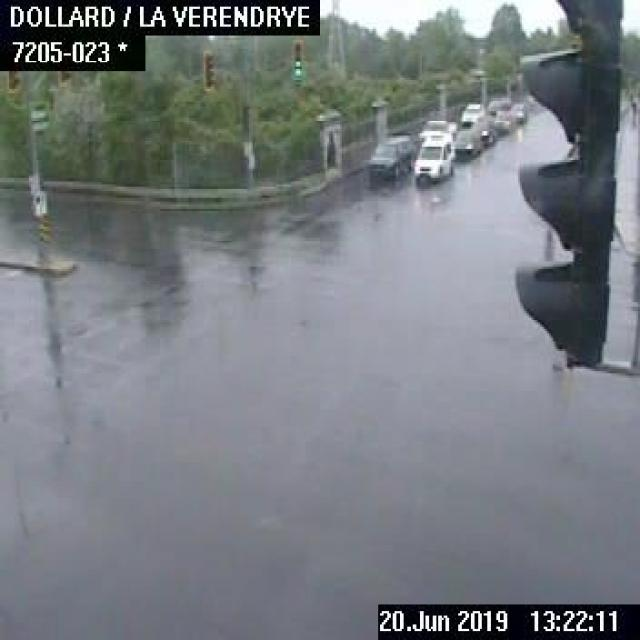vehicle: (365, 128, 416, 184), (413, 132, 455, 182), (454, 128, 481, 160), (417, 117, 456, 138), (471, 116, 496, 144), (460, 100, 485, 127), (491, 106, 512, 133), (509, 101, 526, 124)
